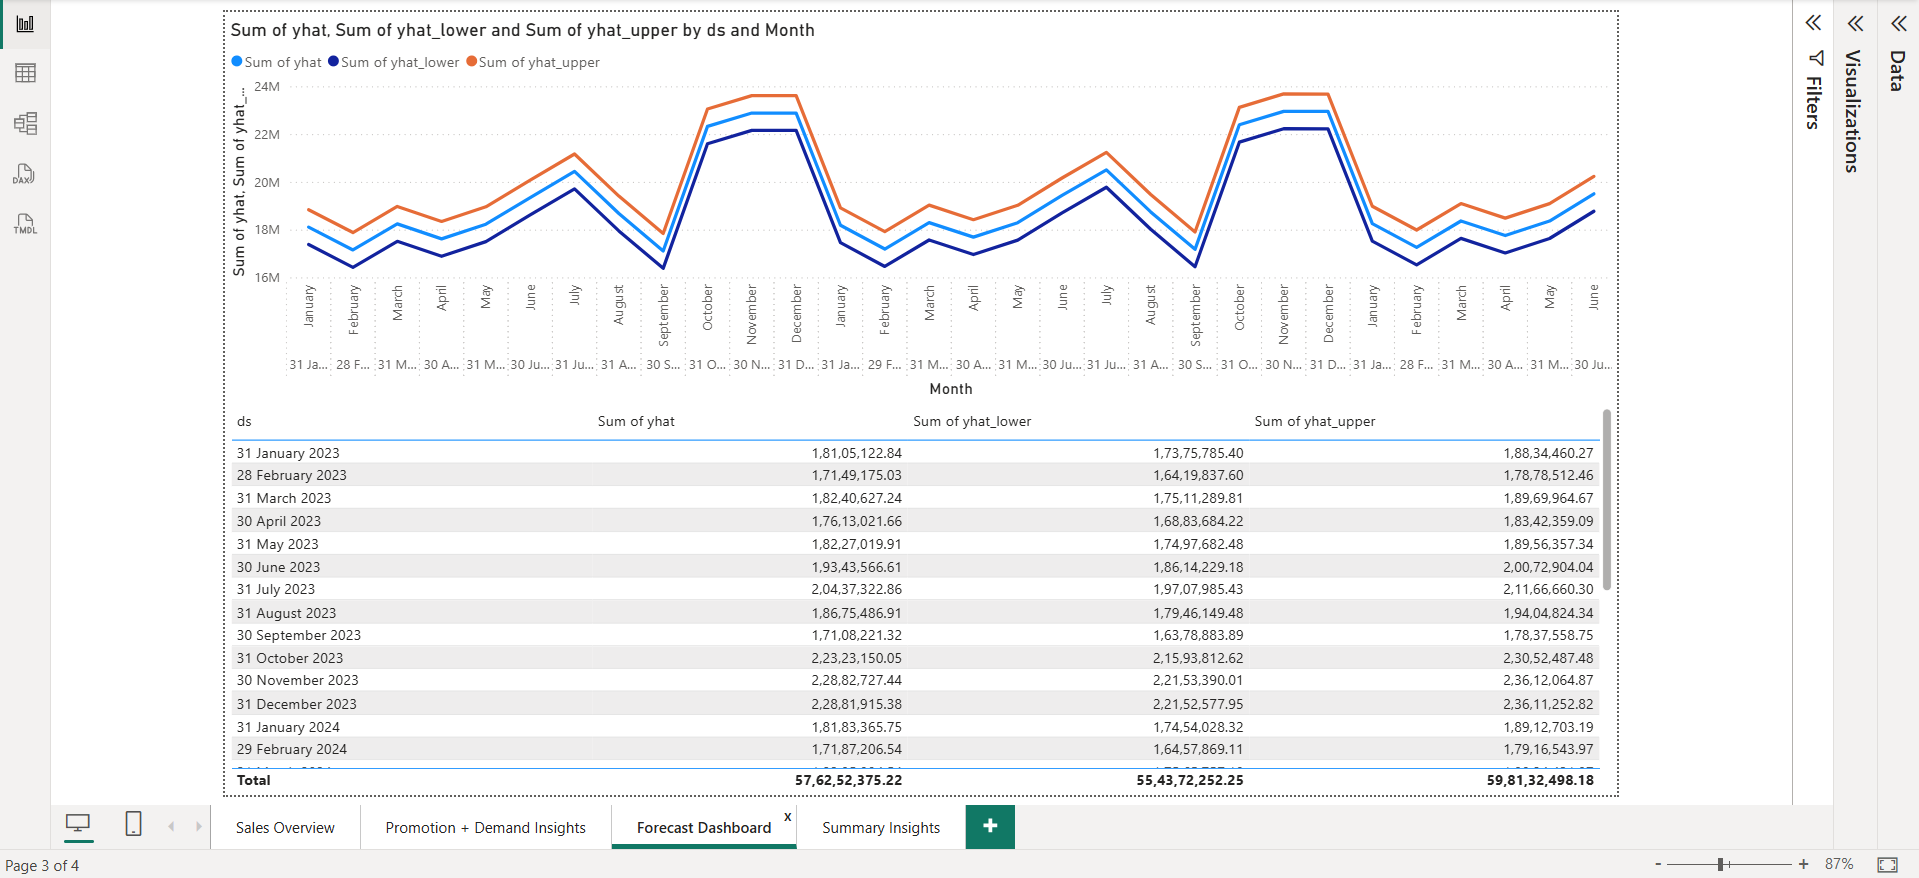

This screenshot's page, from the dashboard's own definition file:
{"tool":"powerbi","page":{"name":"Forecast Dashboard","canvas":[1280,720],"ordinal":2},"visuals":[{"type":"lineChart","fields":{"Category":["monthly_sales_forecast_output.ds","monthly_sales_forecast_output.ForecastDate.Variation.Date Hierarchy.Month"],"Y":["Sum(monthly_sales_forecast_output.yhat)","Sum(monthly_sales_forecast_output.yhat_lower)","Sum(monthly_sales_forecast_output.yhat_upper)"]},"box":[0,5.5,1280.3,354],"z":0},{"type":"tableEx","fields":{"Values":["monthly_sales_forecast_output.ds","Sum(monthly_sales_forecast_output.yhat)","Sum(monthly_sales_forecast_output.yhat_lower)","Sum(monthly_sales_forecast_output.yhat_upper)"]},"box":[0,359.5,1280.3,360.9],"z":1}]}

Visuals, with their boxes on the page's 1280x720 design canvas (x1, y1, x2, y2). These are canvas units, not pixel positions in the 1919x878 screenshot, which may show the page scaled, cropped or inside an application window:
lineChart - monthly_sales_forecast_output.ds x monthly_sales_forecast_output.ForecastDate.Variation.Date Hierarchy.Month: <region>0, 6, 1280, 360</region>
tableEx - monthly_sales_forecast_output.ds x Sum(monthly_sales_forecast_output.yhat): <region>0, 360, 1280, 720</region>
